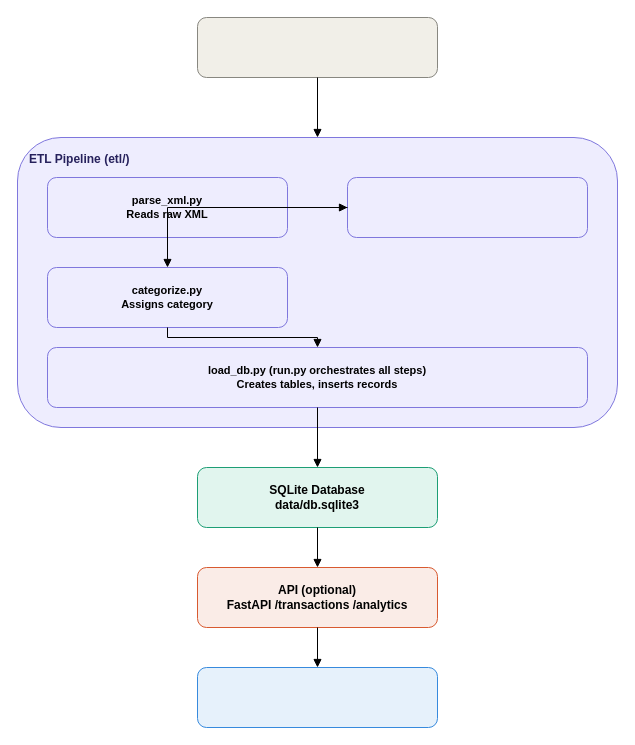
Some shapes in this 635 by 745 pixel diagram are drawn without their labels. Each missing label, with the centre of its shape:
clean_normalize.py Fixes dates, amounts: point 467,207
Raw MoMo SMS XML data/raw/momo.xml: point 317,47
Web Dashboard index.html + chart_handler.js: point 317,697
